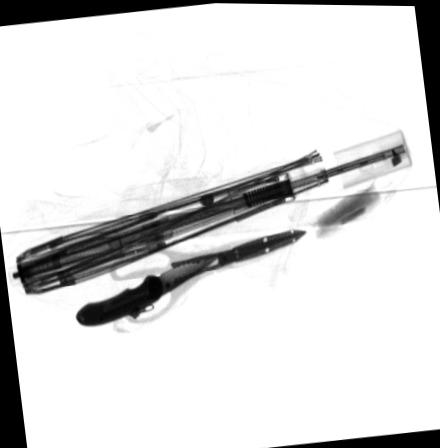Knife: (74, 251, 221, 325)
Scissors: (109, 228, 305, 325)
